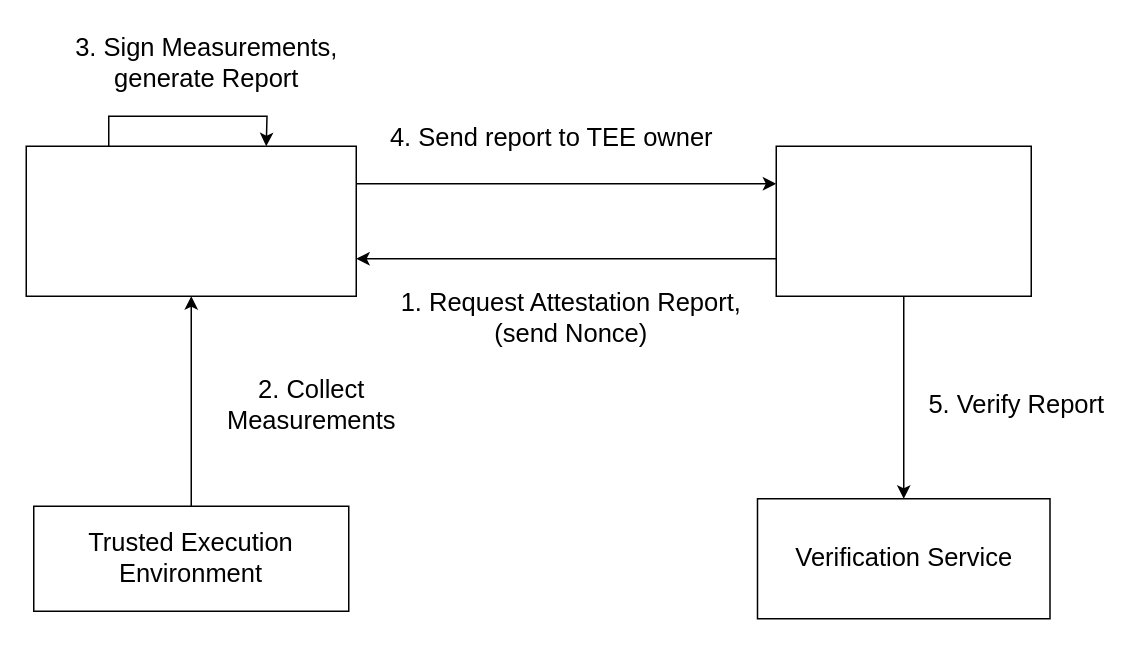
Image size: 1148x645. Some labels were removed from this diagram. The shapes that lost their labels are listed below. From the top down, each one's box as (x1, y1, x2, y2) in pixels, then its label:
(25, 145, 356, 296): Root of Trust
(775, 145, 1031, 296): Challenger
